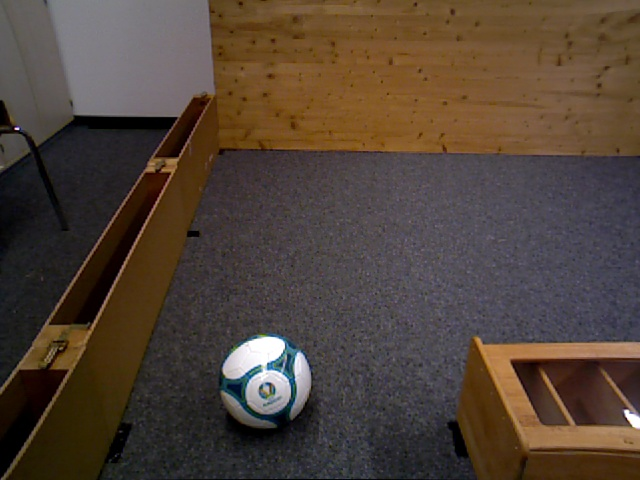kick: (218, 335, 313, 433)
